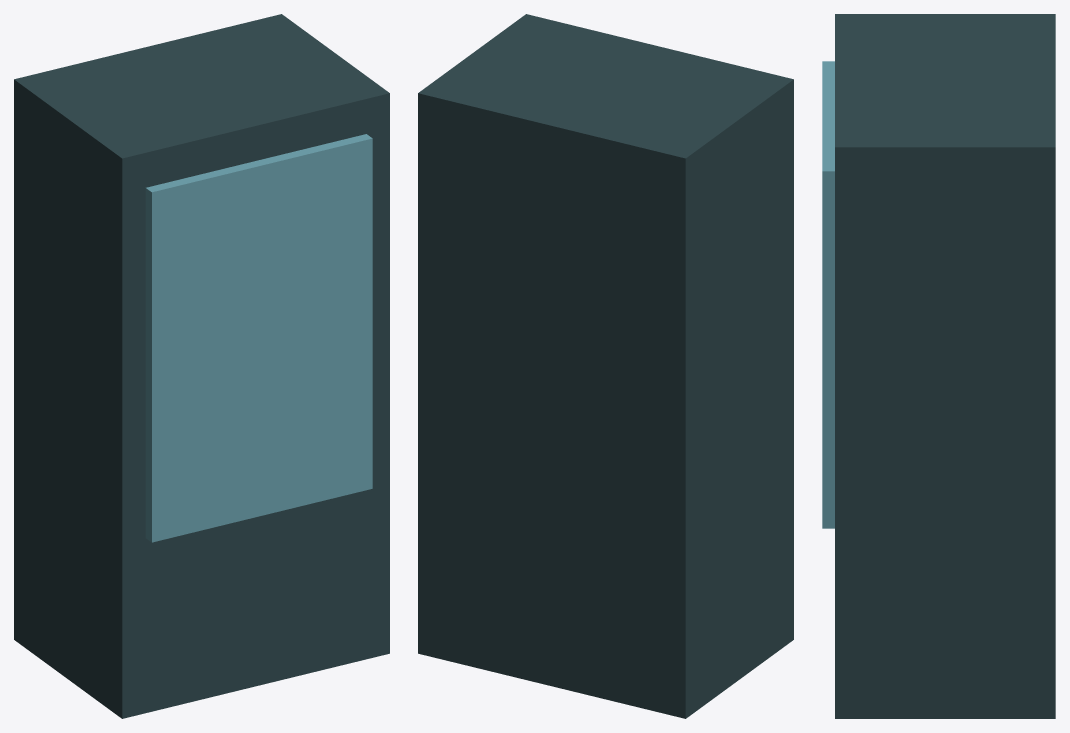
The model's file is wayfinding-sign.glb.
3 views of the same model, side by side, from view 1: azimuth 30°, elevation 25°; view 2: azimuth 150°, elevation 25°; view 3: azimuth 270°, elevation 25° (orthographic). The views are drawn at different scales.
Parts seen in each view (by area): view 1: wayfinding-sign; view 2: wayfinding-sign; view 3: wayfinding-sign.
Part boxes in pixels (x1,y1,x2,y2): wayfinding-sign: [14, 14, 389, 718]; wayfinding-sign: [418, 14, 793, 718]; wayfinding-sign: [822, 14, 1055, 718].
Bounding box in the file's own units: 2 × 4 × 1.48.
